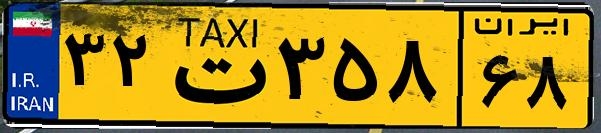2: (110, 28, 158, 98)
3: (270, 28, 330, 110), (57, 26, 110, 100)
5: (330, 28, 385, 110)
6: (475, 38, 525, 113)
8: (385, 28, 445, 110), (525, 38, 570, 115)
ت: (158, 12, 270, 120)
